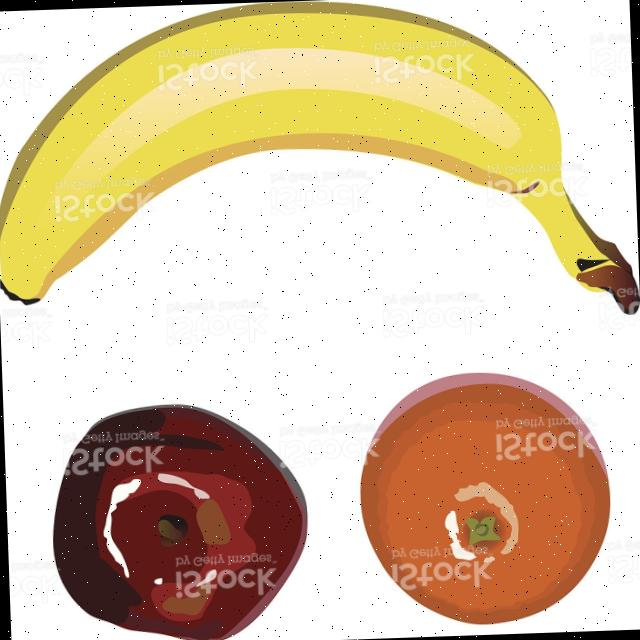Apel: (47, 399, 311, 640), (463, 514, 502, 550)
Jeruk: (355, 368, 615, 630)
Pisang: (0, 0, 638, 338)
